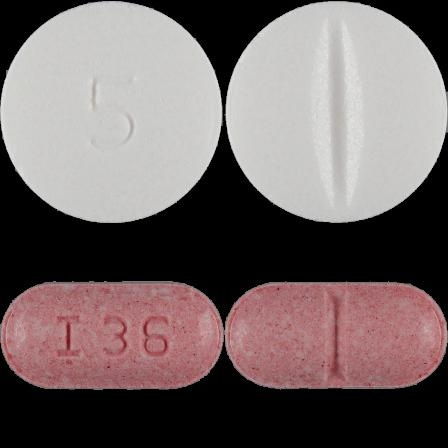66267-100: (0, 0, 224, 224)
